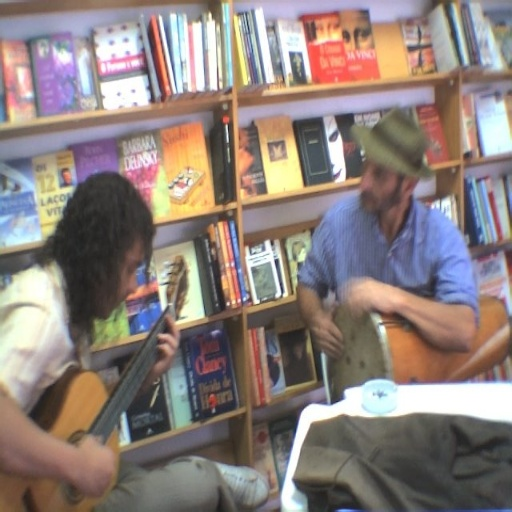hand: (304, 309, 353, 370), (70, 432, 115, 498), (144, 312, 182, 387), (349, 274, 391, 316)
